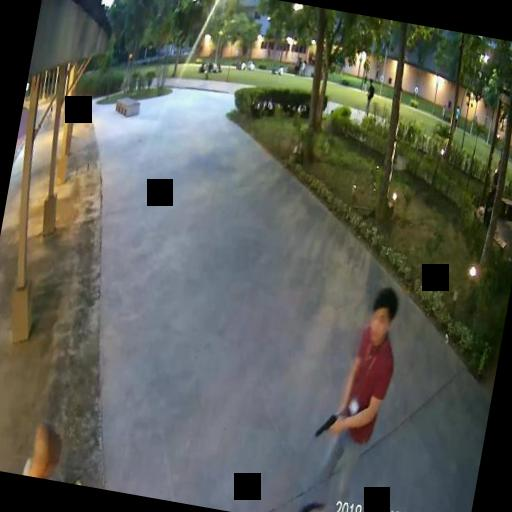Handgun: (312, 407, 340, 438)
